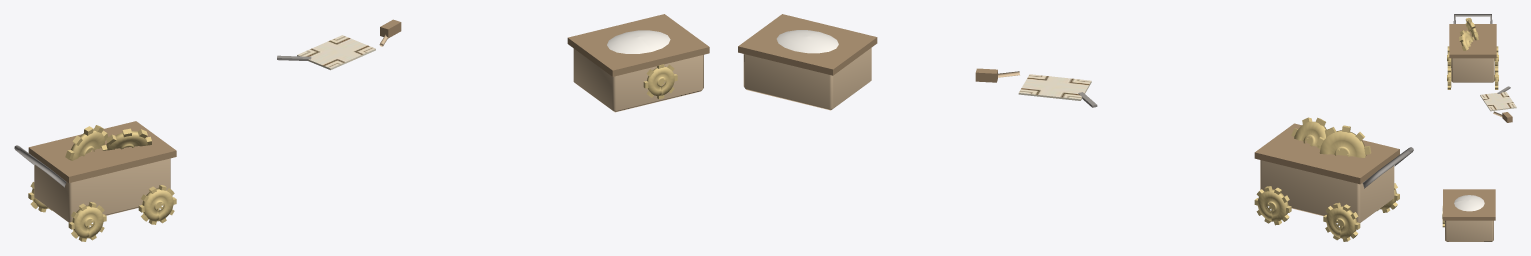
File: atrium_props.glb
3 views of the same model, side by side, from view 1: azimuth 30°, elevation 25°; view 2: azimuth 150°, elevation 25°; view 3: azimuth 270°, elevation 25° (orthographic). The views are drawn at different scales.
Visible parts, largest first — view 1: Atrium_Props_Set; view 2: Atrium_Props_Set; view 3: Atrium_Props_Set.
Part boxes in pixels (bbox=[...]): Atrium_Props_Set: bbox=[14, 14, 709, 241]; Atrium_Props_Set: bbox=[738, 14, 1413, 241]; Atrium_Props_Set: bbox=[1442, 14, 1516, 241].
Bounding box in the file's own units: 4.86 × 0.6755 × 0.8217.
Materials: 6 (1 with a texture image).
